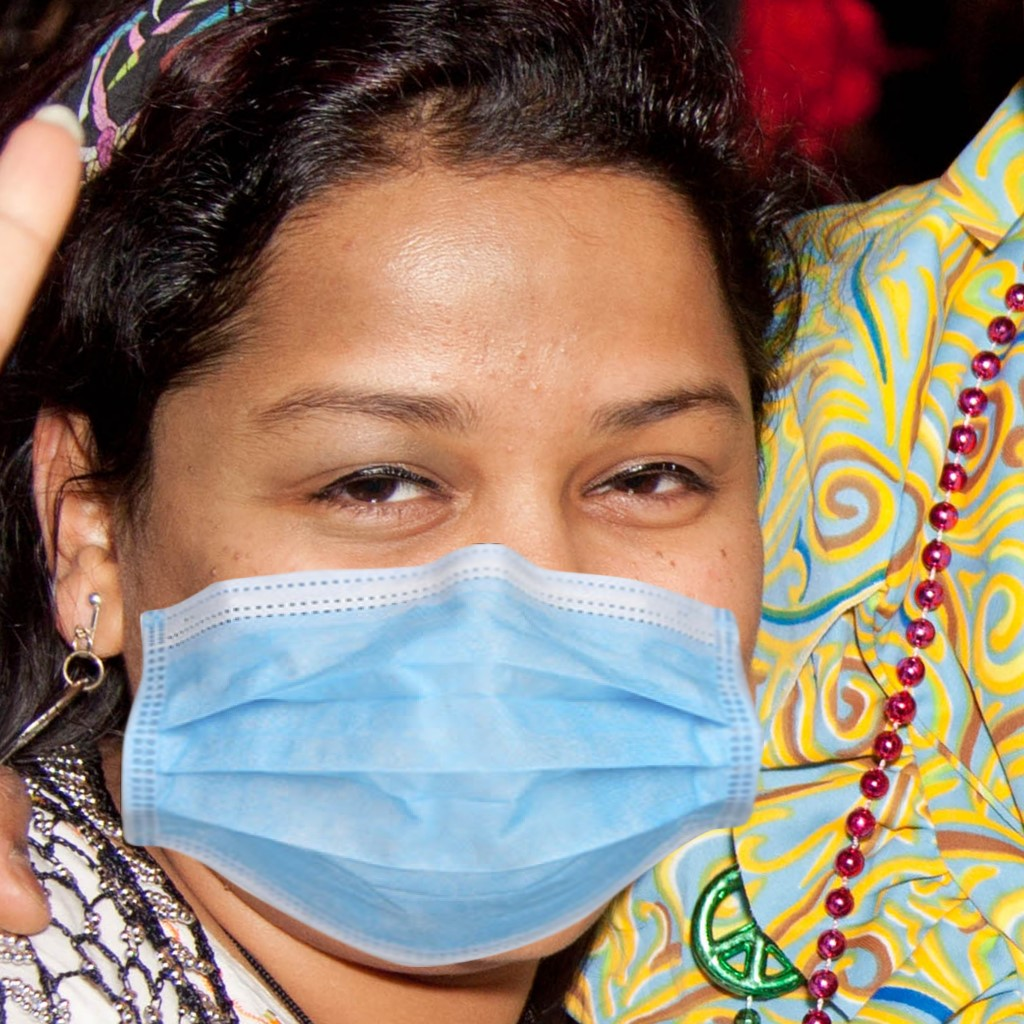con_mascara: (115, 36, 777, 966)
